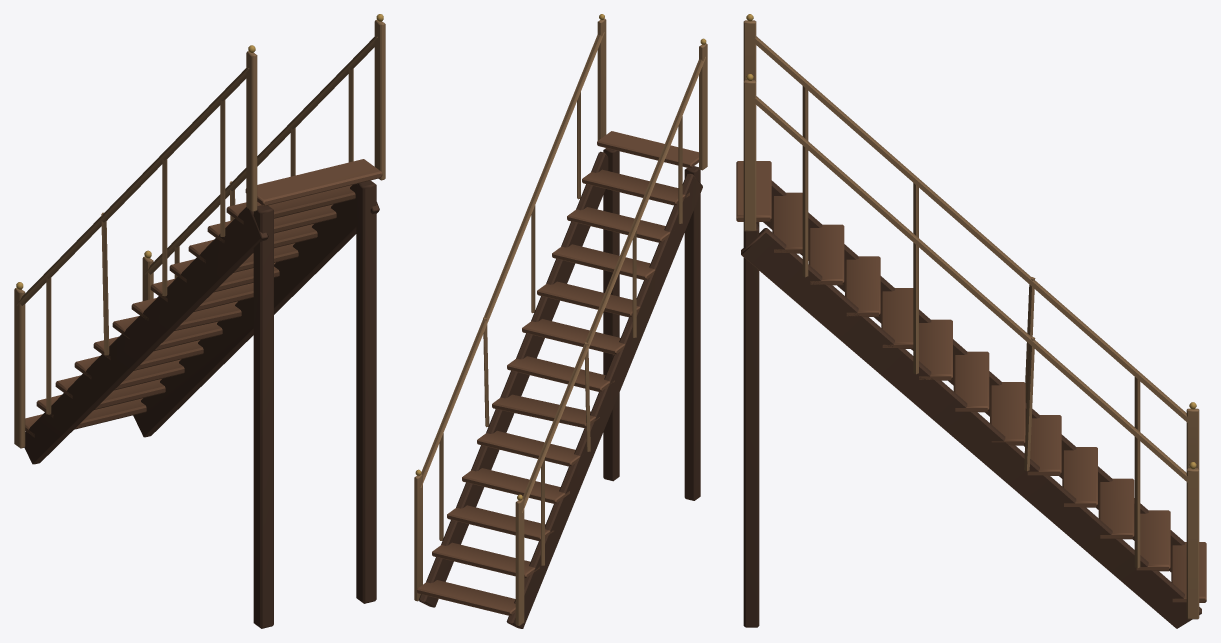
Rendered from qb_stairs_wood.glb.
The picture shows the model from 3 angles, left to right: view 1: azimuth 30°, elevation 25°; view 2: azimuth 150°, elevation 25°; view 3: azimuth 270°, elevation 25°; orthographic projection. The views are drawn at different scales.
Visible parts, largest first — view 1: qb_stairs_wood; view 2: qb_stairs_wood; view 3: qb_stairs_wood.
Boxes of the visible parts, x1=… form: qb_stairs_wood: x1=14, y1=14, x2=385, y2=628; qb_stairs_wood: x1=414, y1=14, x2=707, y2=628; qb_stairs_wood: x1=736, y1=14, x2=1206, y2=628.
Size of the model in its own units: 0.9468 by 3.91 by 3.
